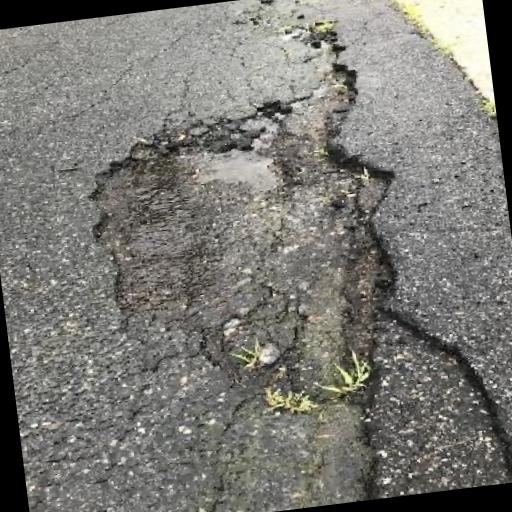pothole: (66, 20, 430, 438)
